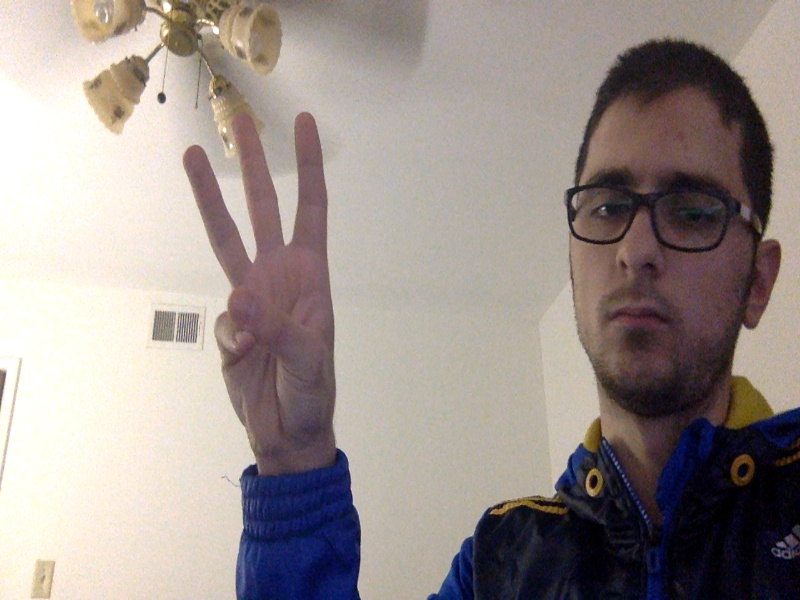3-hand: (182, 112, 336, 455)
